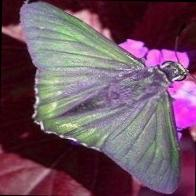butterfly: (19, 1, 188, 194)
